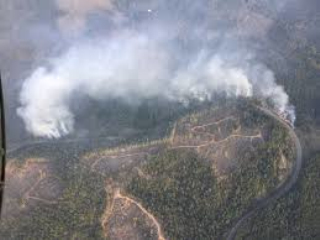smoke: (12, 45, 294, 138)
